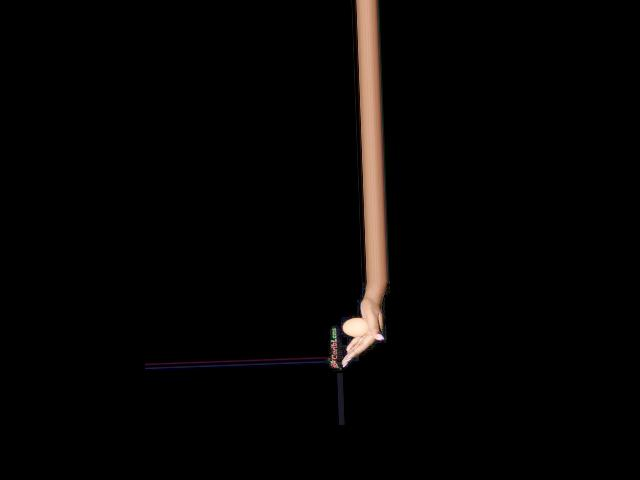egg: (342, 316, 368, 337)
